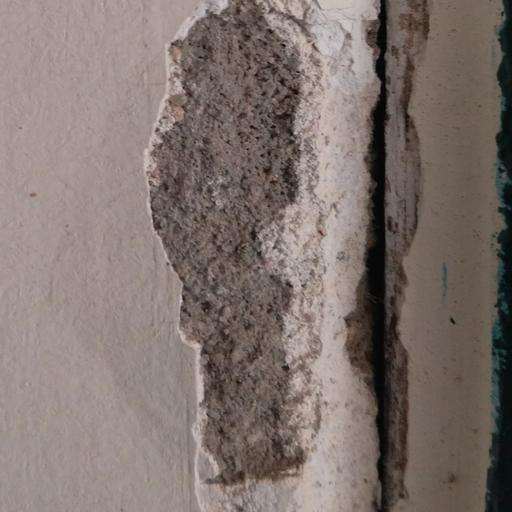spalling: (144, 1, 344, 494)
